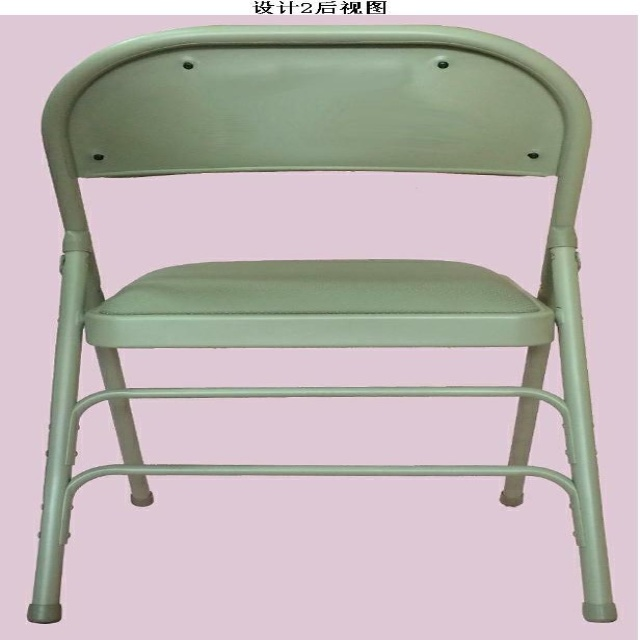obstacle: (27, 25, 615, 623)
